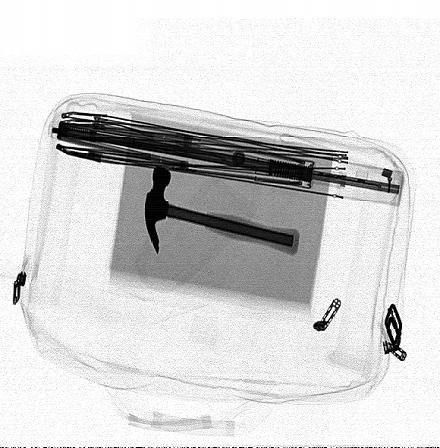Hammer: (143, 165, 301, 256)
